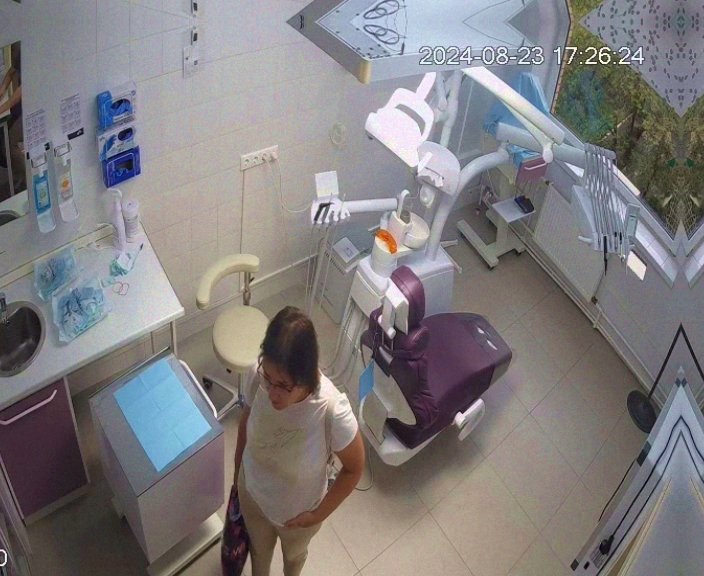Empty: (323, 265, 516, 465)
